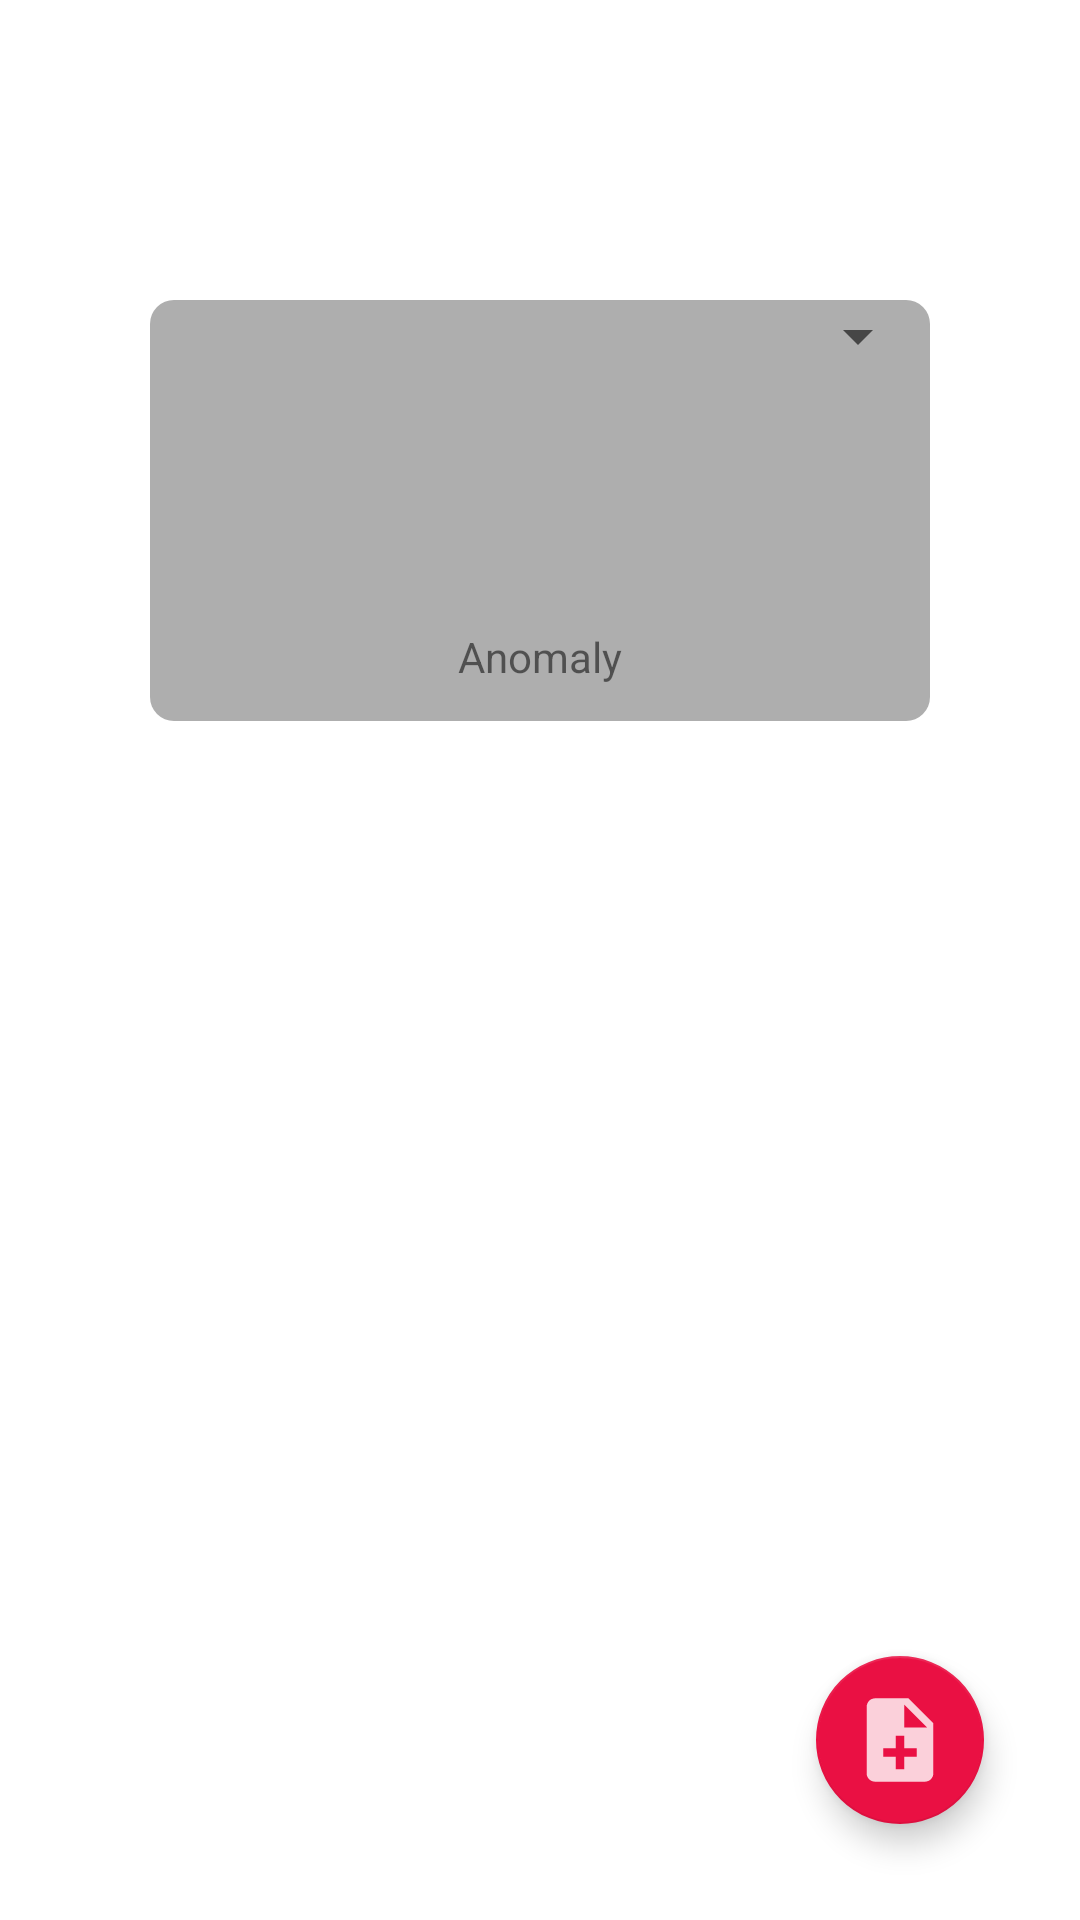

Screen size 1080px x 1920px. Icon name, then its box in pixels as [x1,y1,x2,y2]:
add file: [816,1656,984,1824]
